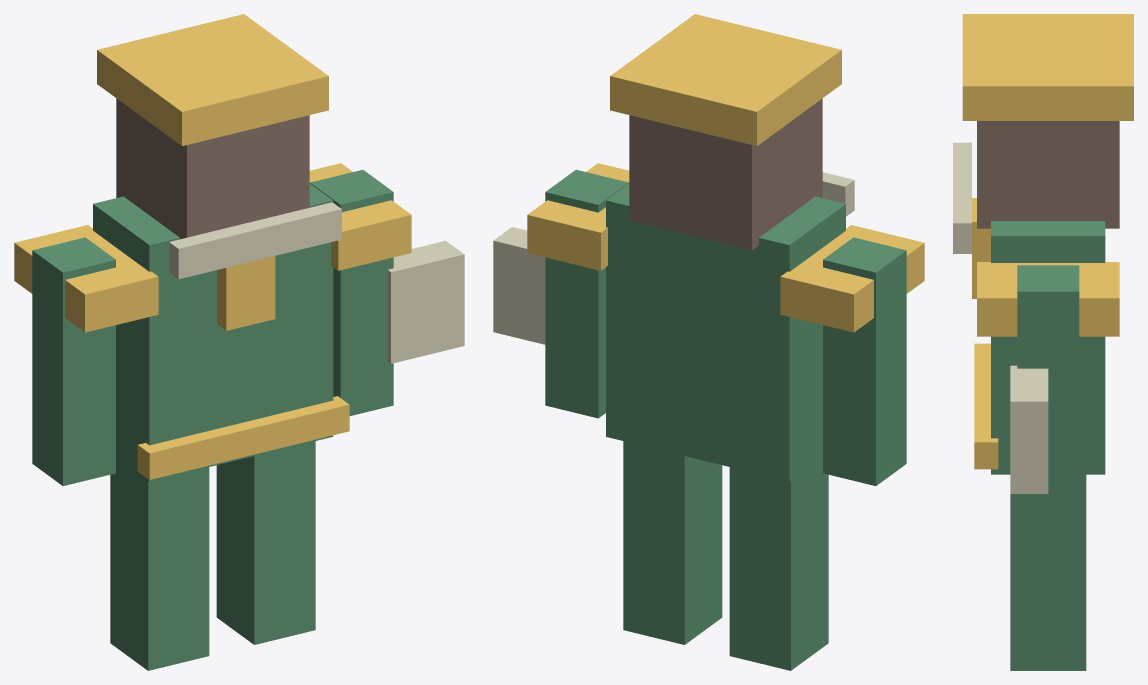
Rendered from 04_nyra_tideforged_warden_from_sanctuary.glb.
3 renders of one model, left to right at view 1: azimuth 30°, elevation 25°; view 2: azimuth 150°, elevation 25°; view 3: azimuth 270°, elevation 25°, orthographic.
Visible parts, largest first — view 1: Nyra Tideforged, Warden from Sanctuary; view 2: Nyra Tideforged, Warden from Sanctuary; view 3: Nyra Tideforged, Warden from Sanctuary.
Part boxes in pixels (x1,y1,x2,y2): Nyra Tideforged, Warden from Sanctuary: (14, 14, 464, 670); Nyra Tideforged, Warden from Sanctuary: (493, 14, 924, 670); Nyra Tideforged, Warden from Sanctuary: (953, 14, 1133, 670).
Size of the model in its own units: 1.01 by 1.39 by 0.3925.
